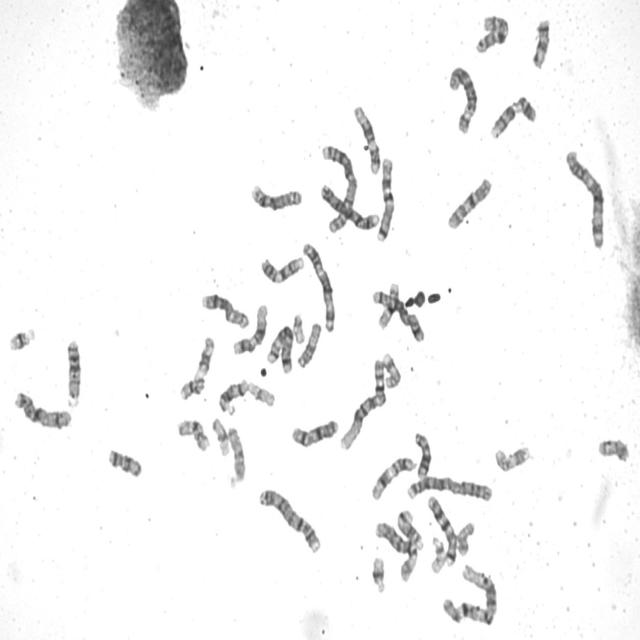A1: (337, 354, 388, 452), (439, 562, 499, 626)
A2: (318, 140, 359, 234), (404, 472, 494, 503)
A3: (562, 146, 606, 251), (300, 238, 337, 334)
B4: (256, 484, 322, 556), (318, 180, 380, 232)
B5: (370, 286, 426, 343), (264, 321, 295, 375)
C10: (445, 174, 493, 232), (473, 11, 511, 55)
C11: (176, 332, 216, 402), (369, 452, 417, 502)
C12: (351, 101, 382, 175), (230, 300, 269, 358)
C6: (373, 518, 419, 584), (446, 62, 479, 135)
C7: (424, 492, 459, 568), (374, 154, 396, 244)
C8: (198, 290, 250, 331), (248, 180, 304, 212)
C9: (487, 91, 538, 141), (258, 252, 306, 286)
D13: (64, 336, 82, 408), (412, 428, 432, 480)
D14: (395, 506, 425, 553), (216, 376, 250, 415)
D15: (294, 319, 323, 370), (224, 423, 247, 486)
E16: (175, 415, 211, 454), (375, 278, 401, 332)
E17: (492, 441, 531, 473), (380, 349, 402, 390)
E18: (105, 445, 143, 480), (530, 15, 552, 70)
F19: (245, 378, 277, 409), (209, 413, 231, 458)
F20: (595, 434, 631, 464), (454, 518, 476, 558)
G21: (6, 324, 34, 352), (369, 552, 387, 595)
G22: (428, 533, 447, 575), (290, 310, 307, 346)
X: (11, 387, 73, 431), (288, 416, 339, 450)
